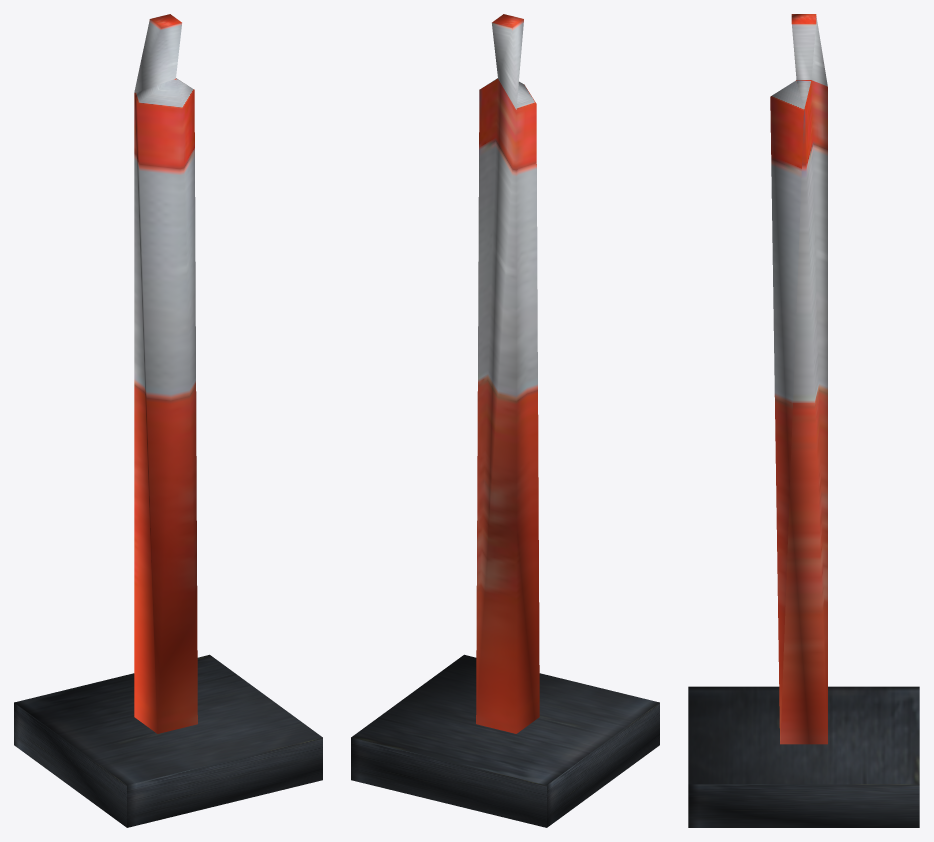
Rendered from orangepylonPost_3.fbx.
The picture shows the model from 3 angles, left to right: view 1: azimuth 30°, elevation 25°; view 2: azimuth 150°, elevation 25°; view 3: azimuth 270°, elevation 25°; orthographic projection. The views are drawn at different scales.
Parts seen in each view (by area): view 1: Cylinder02, Box03; view 2: Cylinder02, Box03; view 3: Cylinder02, Box03.
Boxes of the visible parts, x1,y1,x2,y2 form: Cylinder02: (134,14,197,733); Box03: (14,654,322,827); Cylinder02: (476,14,539,733); Box03: (351,654,659,827); Cylinder02: (770,14,827,744); Box03: (688,686,919,827).
Bounding box in the file's own units: 30 × 109 × 30.
